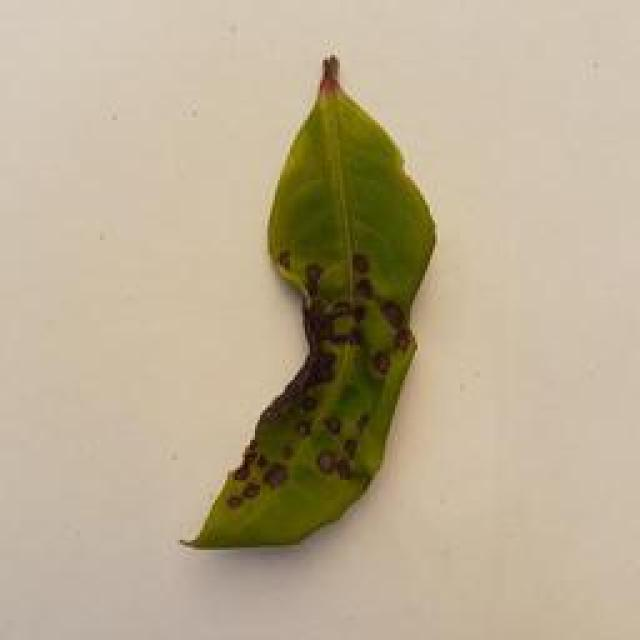Helopeltis: (178, 31, 441, 573)
